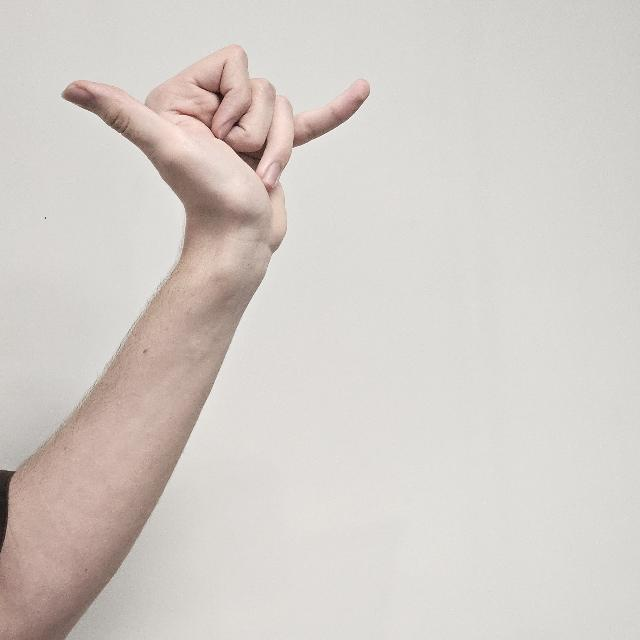Direita: (61, 44, 377, 246)
